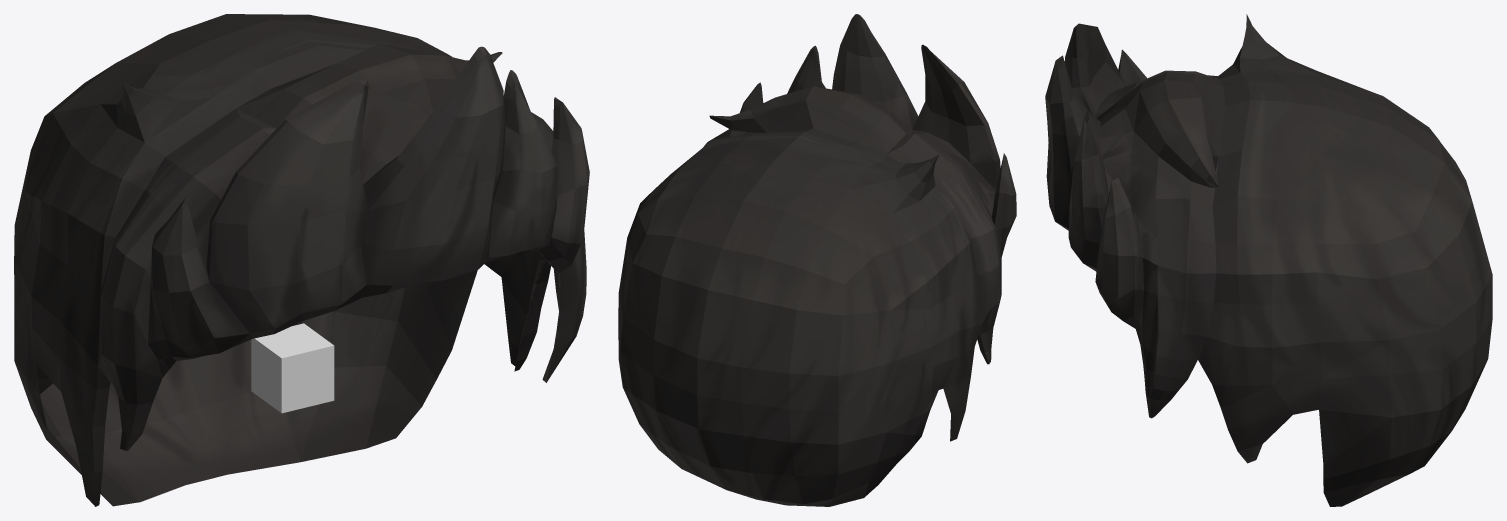
The model's file is boy_hair0.FBX.
3 views of the same model, side by side, from view 1: azimuth 30°, elevation 25°; view 2: azimuth 150°, elevation 25°; view 3: azimuth 270°, elevation 25° (orthographic). The views are drawn at different scales.
Visible parts, largest first — view 1: boy_hair20, boy_pivot02; view 2: boy_hair20; view 3: boy_hair20.
Part boxes in pixels (bbox=[...]): boy_hair20: bbox=[14, 14, 589, 506]; boy_pivot02: bbox=[251, 323, 334, 413]; boy_hair20: bbox=[618, 14, 1016, 506]; boy_hair20: bbox=[1045, 14, 1492, 506].
Bounding box in the file's own units: 44.65 × 51.17 × 47.51.
Materials: 1 (1 with a texture image).
